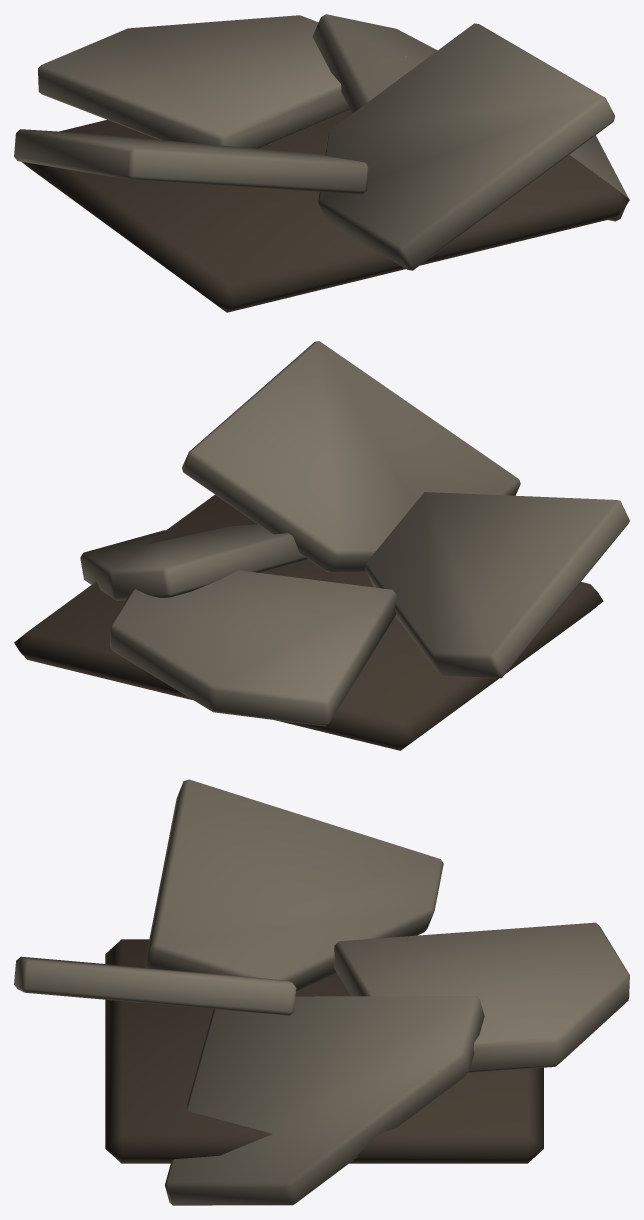
The model's file is losa_rota_b.glb.
The picture shows the model from 3 angles, top to bottom: view 1: azimuth 30°, elevation 25°; view 2: azimuth 150°, elevation 25°; view 3: azimuth 270°, elevation 25°; orthographic projection. The views are drawn at different scales.
Parts seen in each view (by area): view 1: losa_rota_b.001; view 2: losa_rota_b.001; view 3: losa_rota_b.001.
Part boxes in pixels (x1,y1,x2,y2): losa_rota_b.001: (14,14,629,312); losa_rota_b.001: (14,341,629,750); losa_rota_b.001: (14,779,629,1205).
Size of the model in its own units: 1.12 by 0.4076 by 1.12.
